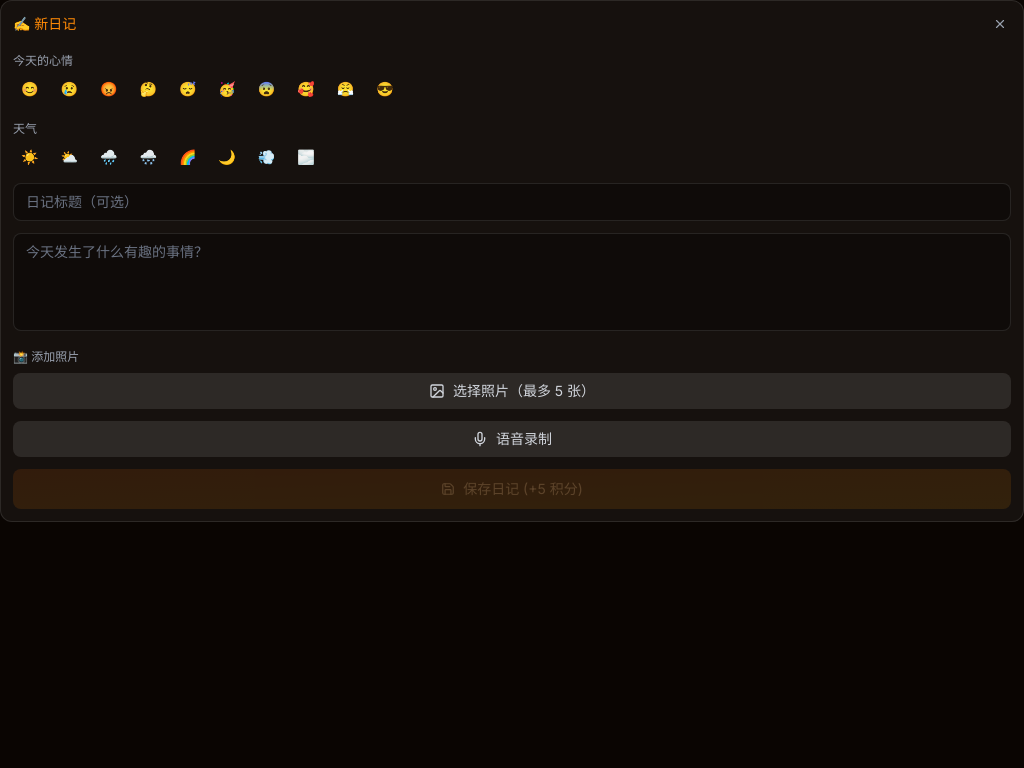
it: DiaryNewForm › enables save button when content is entered
Type "今天去了公园" into the text box with placeholder "今天发生了什么有趣的事情？".
click(512, 282); type("今天去了公园")  # box [13, 233, 1011, 331]
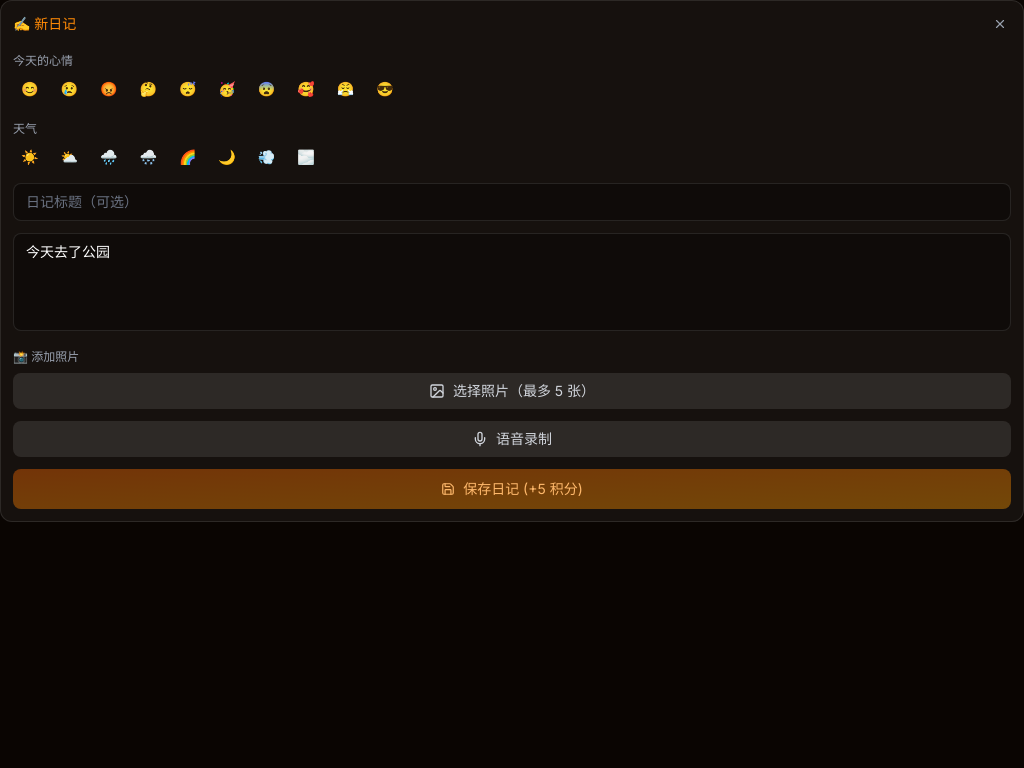
Now the button "保存日记 (+5 积分)" is enabled, box [13, 469, 1011, 509]
